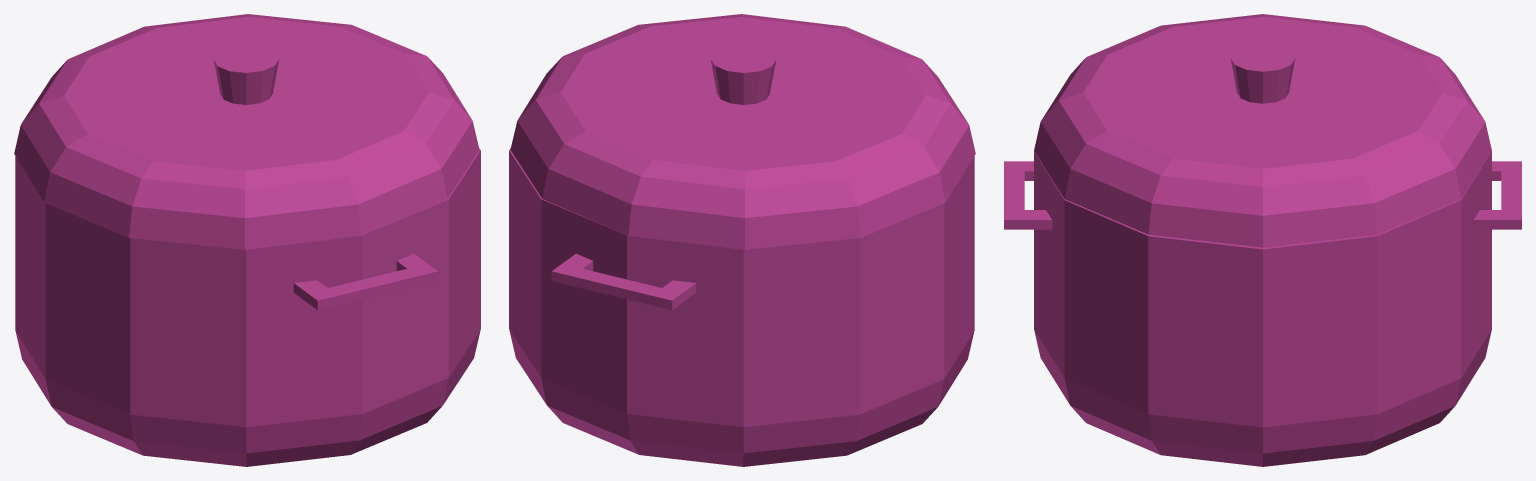
The model's file is Cacerola.fbx.
3 views of the same model, side by side, from view 1: azimuth 30°, elevation 25°; view 2: azimuth 150°, elevation 25°; view 3: azimuth 270°, elevation 25° (orthographic).
Visible parts, largest first — view 1: Base_Pot, Lid_Pot, Handles; view 2: Base_Pot, Lid_Pot, Handles; view 3: Base_Pot, Lid_Pot, Handles.
Boxes of the visible parts, box(x1,y1,x2,y2) form: Base_Pot: box(15, 148, 480, 466); Lid_Pot: box(14, 14, 479, 249); Handles: box(293, 254, 438, 310); Base_Pot: box(509, 148, 974, 466); Lid_Pot: box(510, 14, 975, 249); Handles: box(551, 254, 696, 310); Base_Pot: box(1034, 151, 1491, 466); Lid_Pot: box(1034, 14, 1491, 247); Handles: box(1004, 161, 1521, 229).
Size of the model in its own units: 34.48 by 26.72 by 38.2.
